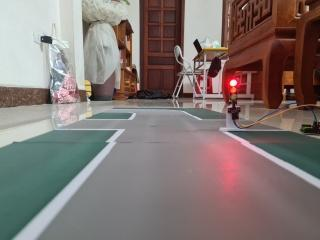red: (224, 73, 242, 118)
